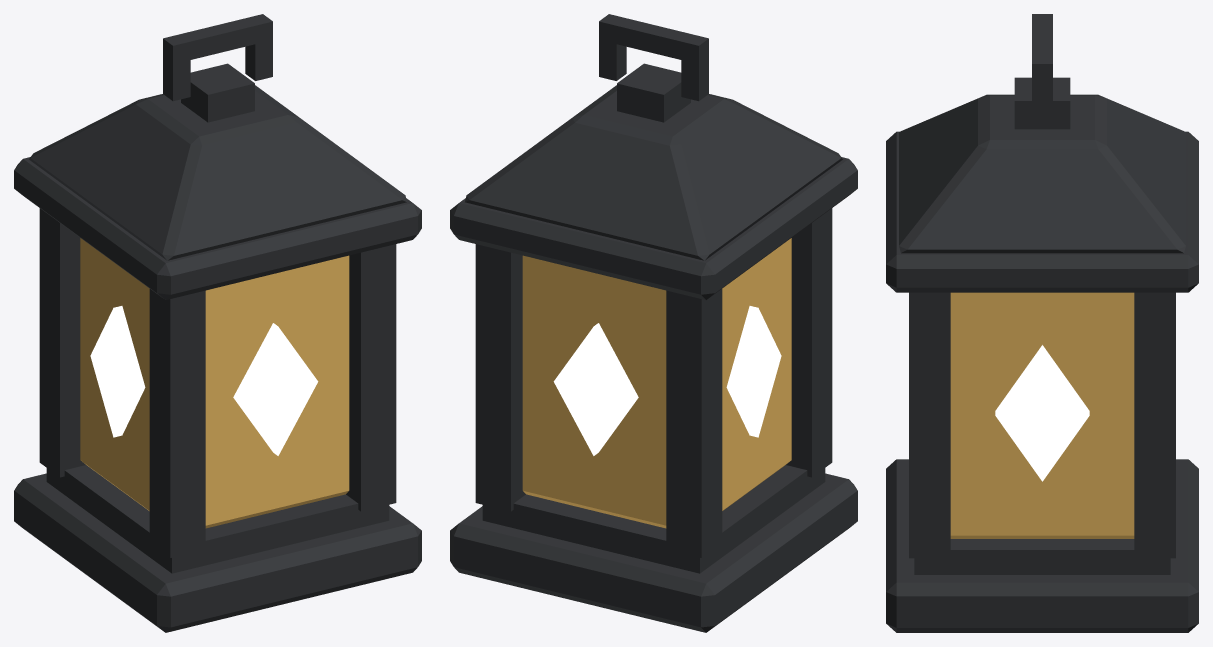
The model's file is Lodge_Lantern.fbx.
The picture shows the model from 3 angles, left to right: view 1: azimuth 30°, elevation 25°; view 2: azimuth 150°, elevation 25°; view 3: azimuth 270°, elevation 25°; orthographic projection. The views are drawn at different scales.
Parts seen in each view (by area): view 1: FnMetal, FnPane, FnCore; view 2: FnMetal, FnPane, FnCore; view 3: FnMetal, FnPane, FnCore.
Boxes of the visible parts, bbox=[...] form: FnMetal: bbox=[14, 14, 421, 632]; FnPane: bbox=[80, 238, 349, 528]; FnCore: bbox=[90, 306, 318, 455]; FnMetal: bbox=[450, 14, 857, 632]; FnPane: bbox=[522, 238, 791, 528]; FnCore: bbox=[553, 306, 781, 455]; FnMetal: bbox=[886, 14, 1198, 632]; FnPane: bbox=[950, 292, 1134, 538]; FnCore: bbox=[995, 345, 1089, 481].
Size of the model in its own units: 0.9 by 1.69 by 0.9.
